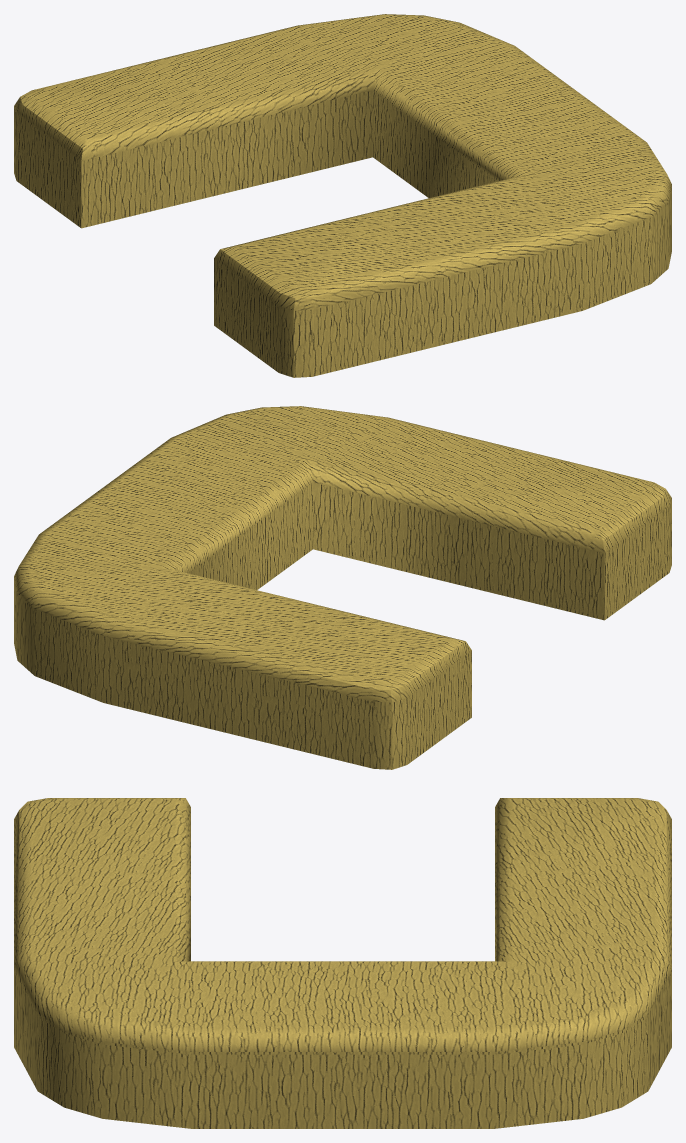
File: Table_2.fbx
3 views of the same model, one above another, from view 1: azimuth 30°, elevation 25°; view 2: azimuth 150°, elevation 25°; view 3: azimuth 270°, elevation 25° (orthographic). The views are drawn at different scales.
Parts seen in each view (by area): view 1: pCube51; view 2: pCube51; view 3: pCube51.
Part boxes in pixels (box(x1,y1,x2,y2)): pCube51: box(14, 14, 671, 377); pCube51: box(14, 406, 671, 769); pCube51: box(14, 798, 671, 1128).
Size of the model in its own units: 5.64 by 1 by 6.41.
